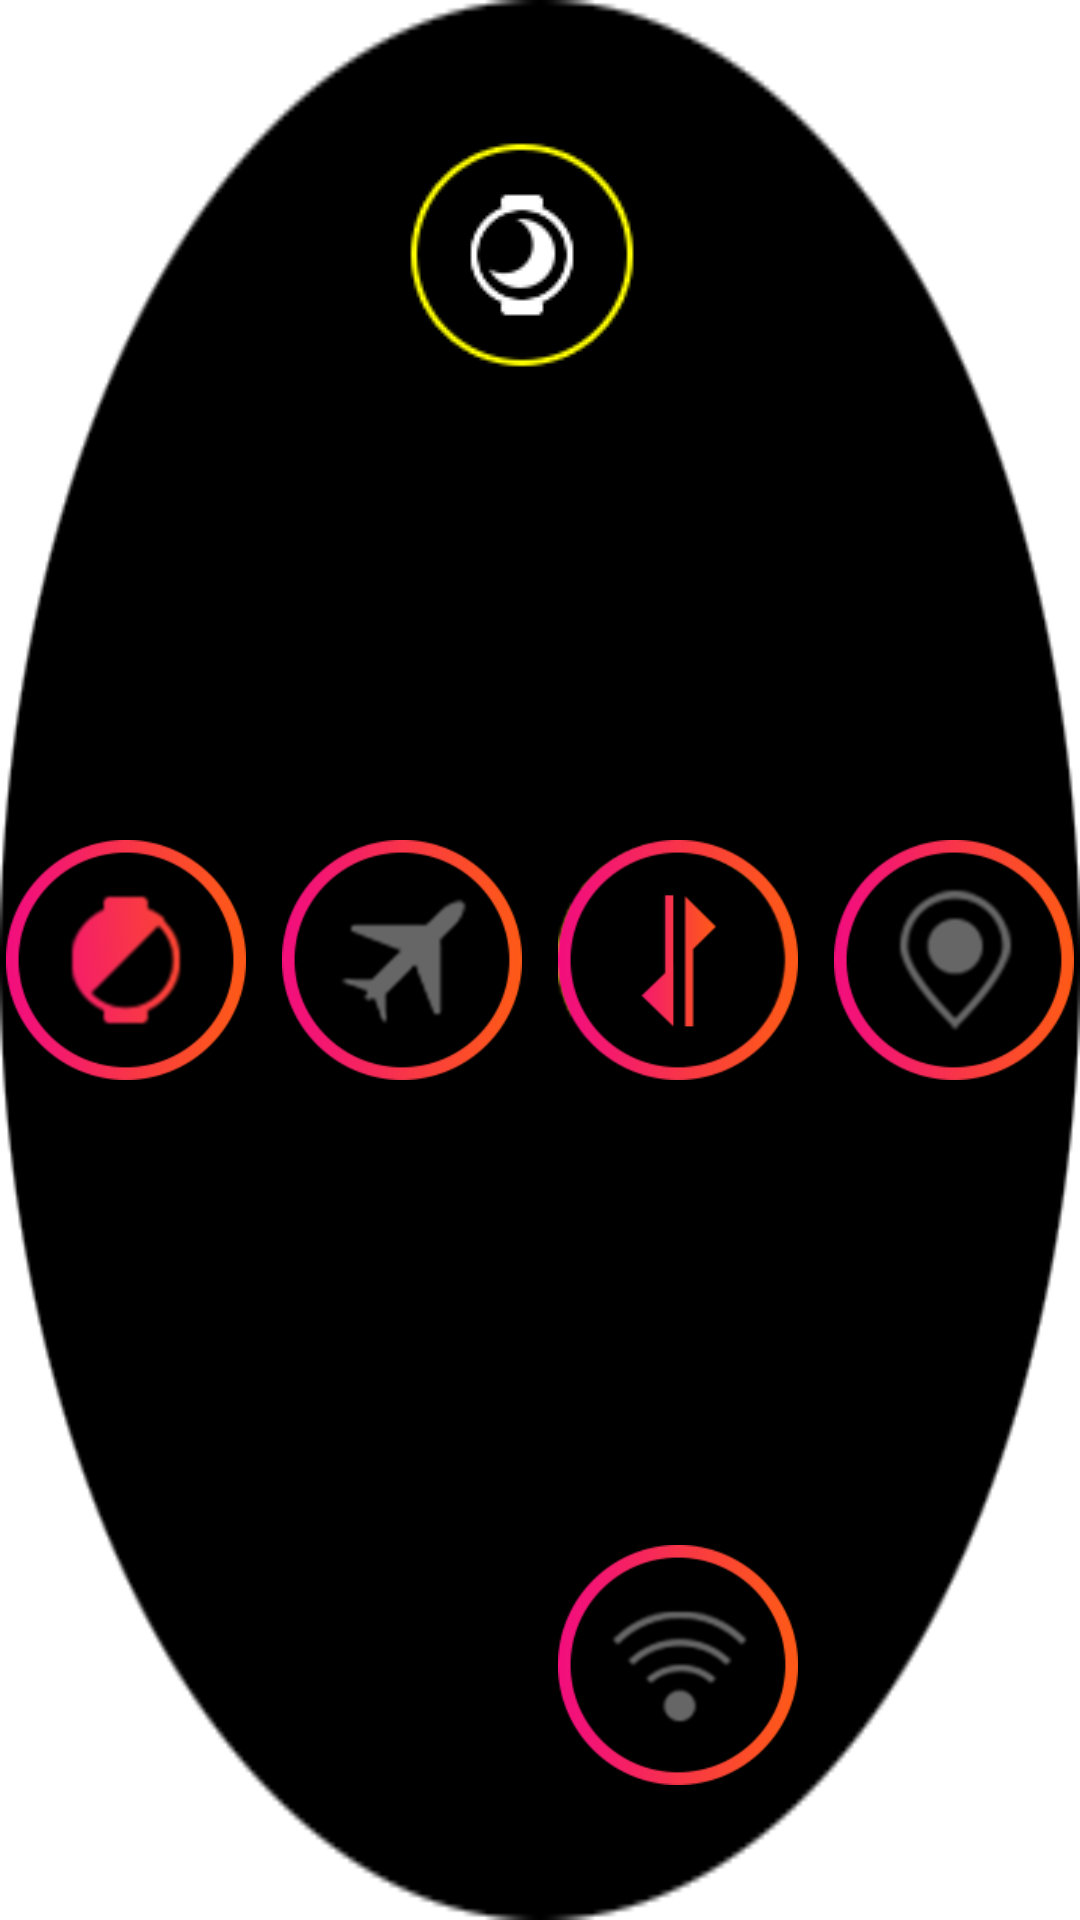

Screen size 1080*1920. Icon name, then its box in pixels as rect(x1, y1, x2, y2):
AirPlane Mode: rect(282, 840, 522, 1080)
moible data: rect(558, 840, 798, 1080)
Quiet mode ON: rect(410, 143, 634, 367)
wifi off: rect(558, 1545, 798, 1785)
